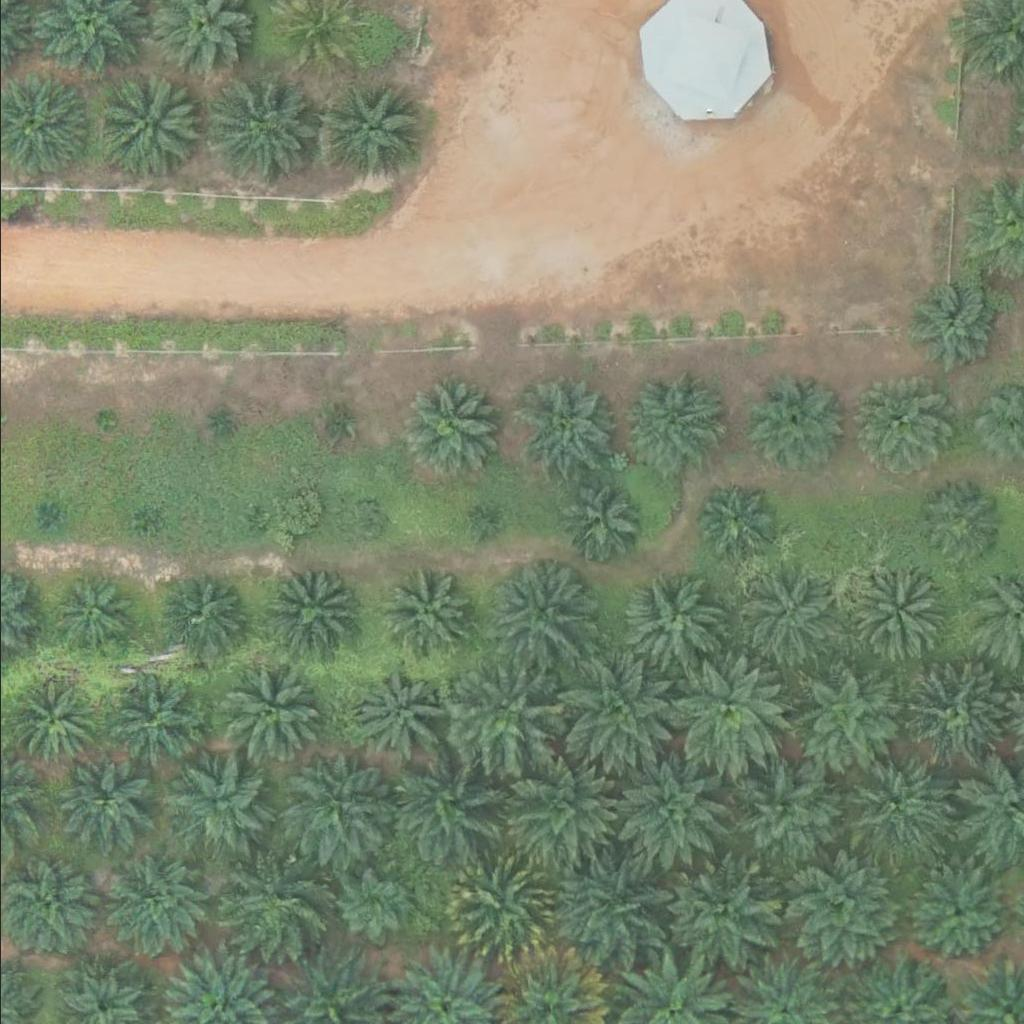Kelapa_Sawit: (483, 556, 597, 669), (896, 661, 1009, 774), (840, 748, 953, 861), (725, 756, 838, 869), (785, 856, 898, 969), (671, 859, 784, 972), (553, 858, 666, 971), (443, 849, 556, 962), (555, 656, 669, 768), (385, 750, 499, 862), (282, 754, 396, 866), (449, 659, 563, 771), (787, 656, 900, 768), (666, 655, 779, 767), (614, 758, 727, 870), (499, 747, 612, 859), (206, 75, 319, 187), (624, 369, 725, 469), (845, 562, 946, 662), (906, 867, 1007, 967), (166, 753, 267, 853), (217, 662, 318, 762), (105, 670, 206, 770), (513, 377, 614, 477), (405, 375, 506, 475), (318, 77, 419, 177), (851, 379, 951, 479), (744, 374, 844, 474), (732, 572, 832, 672), (619, 574, 719, 674), (223, 858, 323, 958), (102, 851, 202, 951), (99, 72, 199, 172), (48, 574, 137, 662), (911, 288, 999, 376), (157, 571, 245, 659), (5, 680, 93, 768), (912, 480, 1000, 567), (53, 760, 141, 847), (352, 672, 440, 759), (385, 572, 473, 659), (263, 565, 351, 652), (556, 478, 644, 565), (696, 485, 772, 560), (336, 867, 412, 942), (343, 503, 381, 541), (471, 516, 496, 541), (241, 512, 266, 537), (125, 506, 150, 531), (321, 412, 346, 437), (208, 412, 233, 437), (90, 408, 115, 433), (36, 507, 61, 532)
